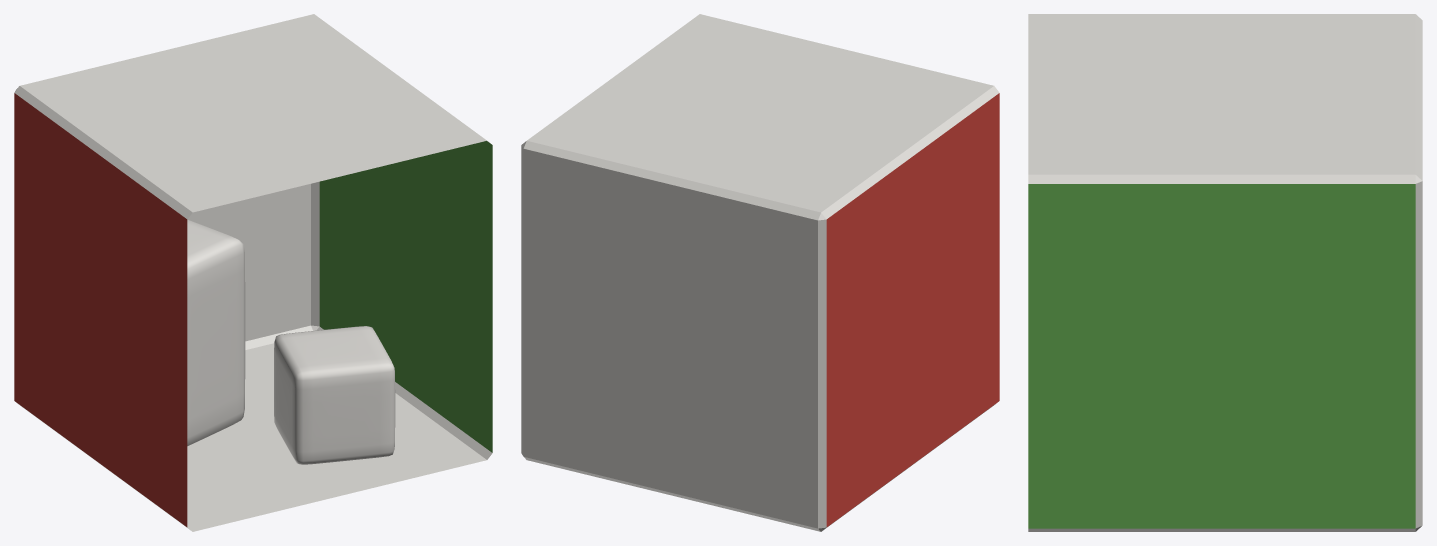
File: cornell9.gltf
3 views of the same model, side by side, from view 1: azimuth 30°, elevation 25°; view 2: azimuth 150°, elevation 25°; view 3: azimuth 270°, elevation 25° (orthographic). The views are drawn at different scales.
Parts seen in each view (by area): view 1: LeftWall, Roof, RightWall, Floor, Cube.001, Cube.002, BackWall, Cube; view 2: BackWall, LeftWall, Roof, Cube; view 3: RightWall, Roof, Cube.
Part boxes in pixels (box(x1,y1,x2,y2)): LeftWall: box(14, 93, 187, 526); Roof: box(20, 14, 486, 212); RightWall: box(319, 141, 492, 452); Floor: box(187, 343, 486, 531); Cube.001: box(274, 326, 395, 464); Cube.002: box(187, 219, 245, 446); BackWall: box(187, 184, 310, 341); Cube: box(14, 86, 492, 530); BackWall: box(523, 149, 817, 528); LeftWall: box(826, 93, 999, 526); Roof: box(527, 14, 993, 212); Cube: box(521, 86, 999, 531); RightWall: box(1028, 184, 1415, 528); Roof: box(1028, 14, 1415, 174); Cube: box(1028, 14, 1422, 531).
Size of what is drawn, in the model's own units: 2 by 2 by 2.
